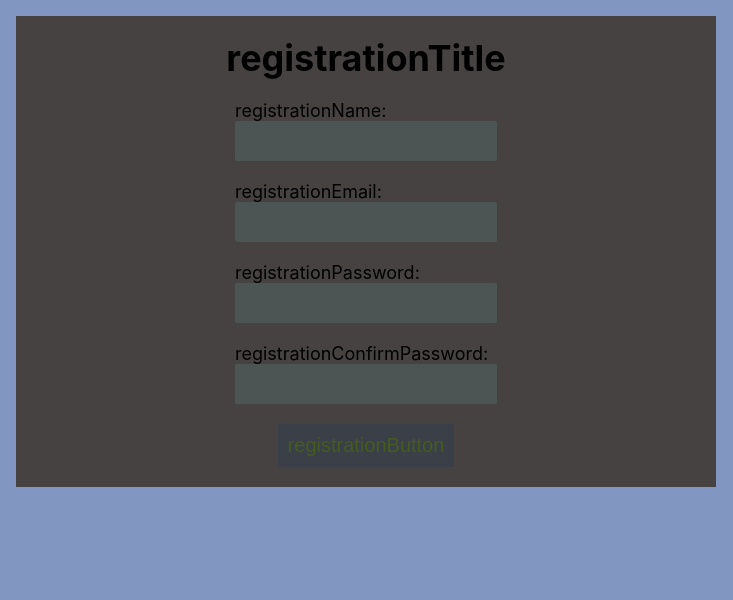
Testing Registration Form page › should be displayed a message weak password
Type "test" into the field named "registration_form_input_name". click: (366, 141)
box: [235,121,497,161]
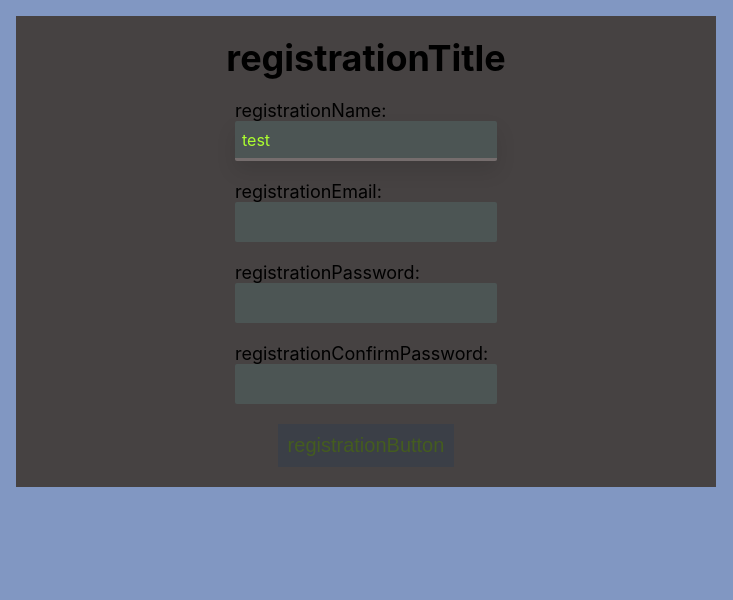
Type "1@1.ru" into the field named "registration_form_input_email". click: (366, 222)
box: [235,202,497,242]
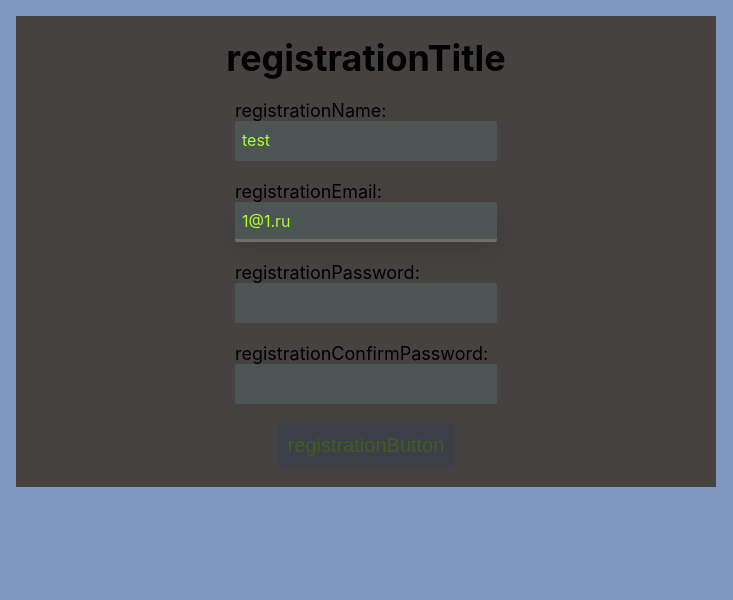
Type "weakPassword" into the password field named "registration_form_input_password". click: (366, 303)
box: [235,283,497,323]
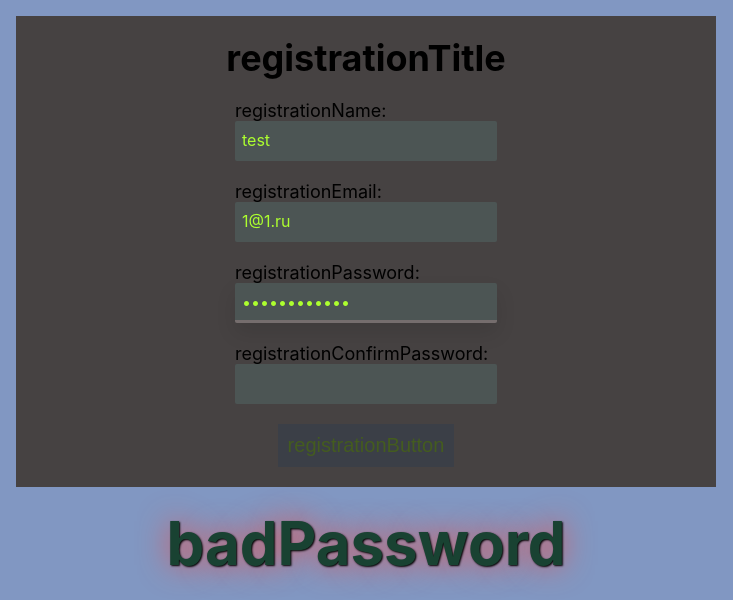
Expected: the button with aria-label "registration_form_button" is disabled, [278,424,454,467]
Expected: the heading named "registration_form_weak_password" reads "badPassword", [166,507,566,579]
